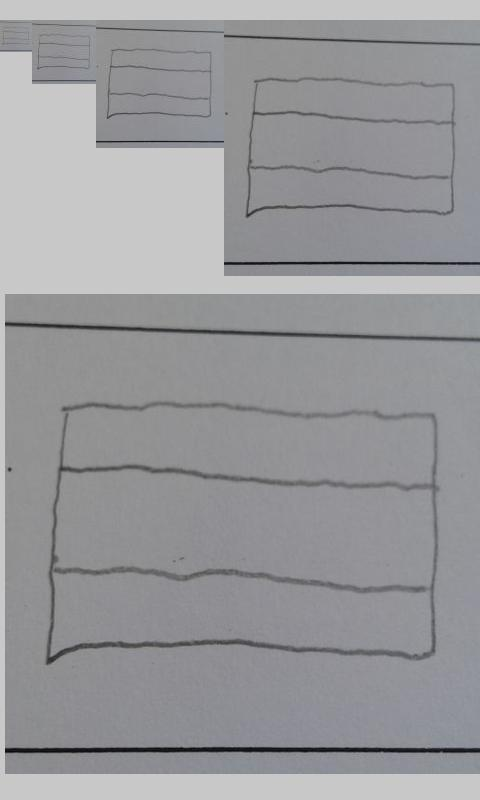list_view: (45, 398, 444, 663), (246, 77, 455, 217), (106, 47, 214, 119), (37, 33, 92, 69), (2, 26, 30, 46)
